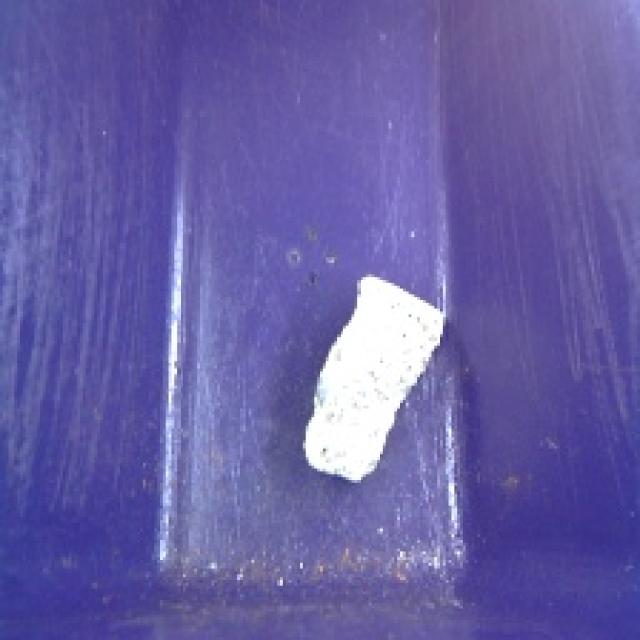brick: (285, 266, 452, 487)
